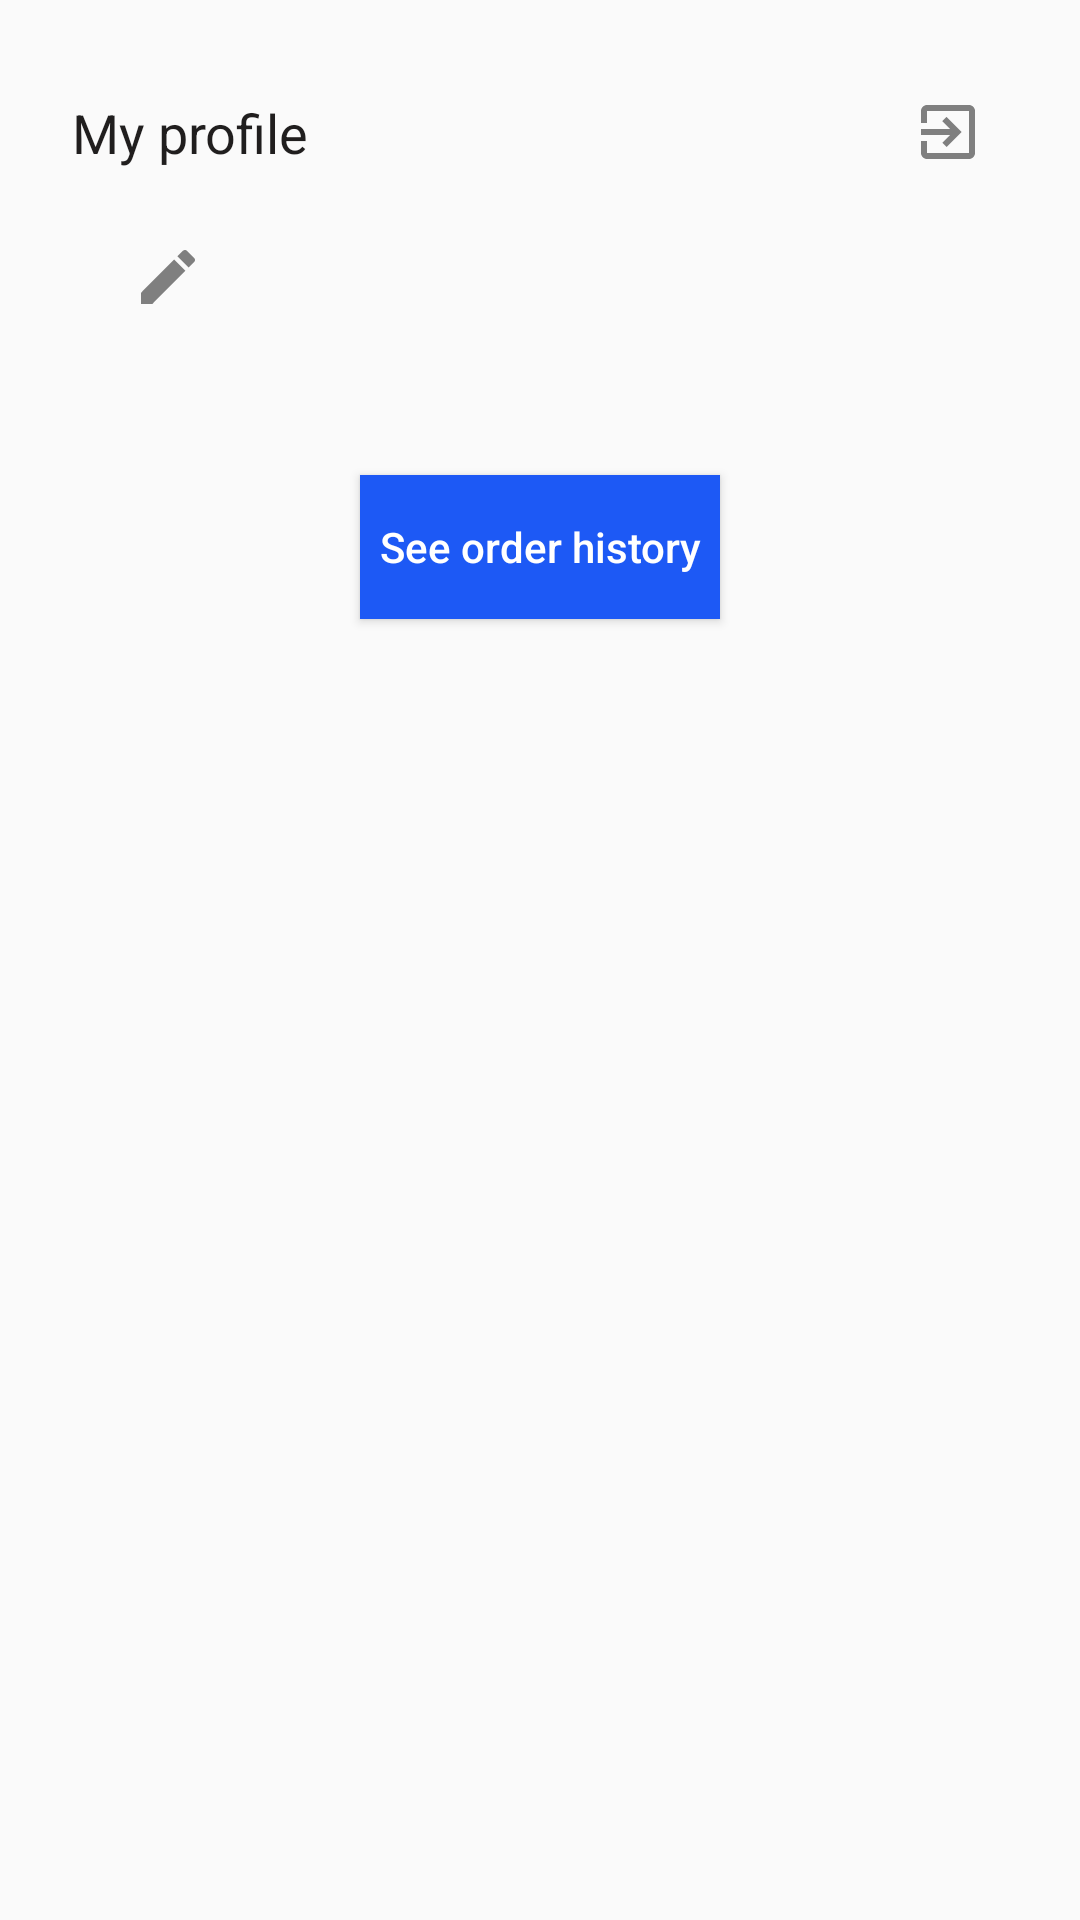

Screen size 1080w x 1920h. Icon name, then its box in pixels as bbox=[x1, y1, x2, y2]:
edit: bbox=[141, 250, 195, 304]
exit: bbox=[921, 105, 975, 159]
